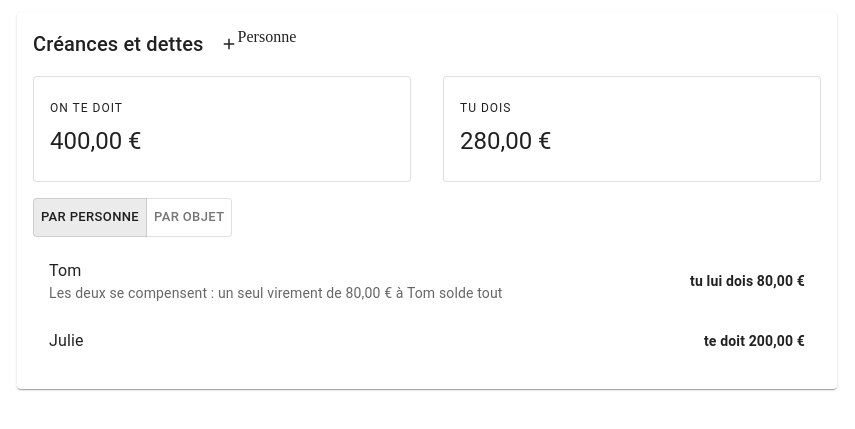
Test: PeerDebtsPage — « Créances et dettes » › « Par objet » gives the amount, who and the note of each object
Click the button "Par objet".
click(189, 217)  # box left=146, top=198, right=232, bottom=237
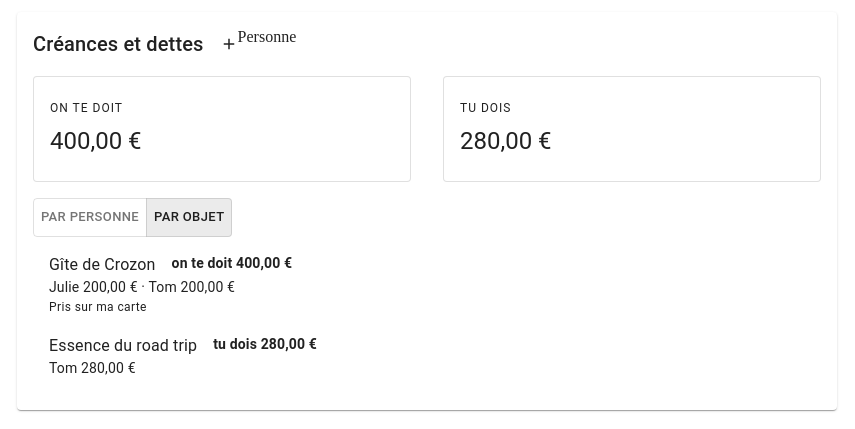
Expected: the number of list items with test id "peer-debt-object" is 2, left=49, top=255, right=292, bottom=314; left=49, top=336, right=317, bottom=376
Expected: the list item with test id "peer-debt-object" shows "Gîte de Crozon", left=49, top=255, right=156, bottom=274
Expected: the list item with test id "peer-debt-object" shows "on te doit 400,00 €", left=172, top=255, right=292, bottom=271
